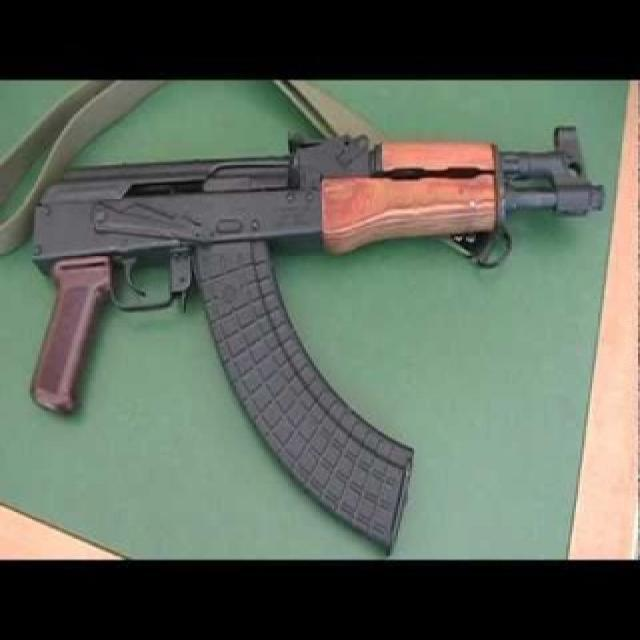weapon: (14, 123, 624, 548)
